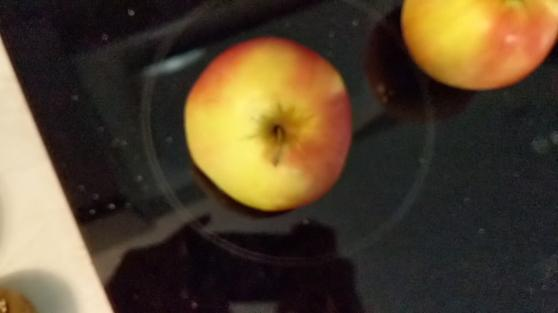apple: (184, 36, 354, 211), (396, 1, 556, 90)
